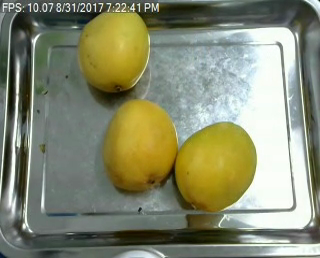Mango: (172, 121, 256, 210), (101, 100, 178, 192), (75, 6, 152, 92)
